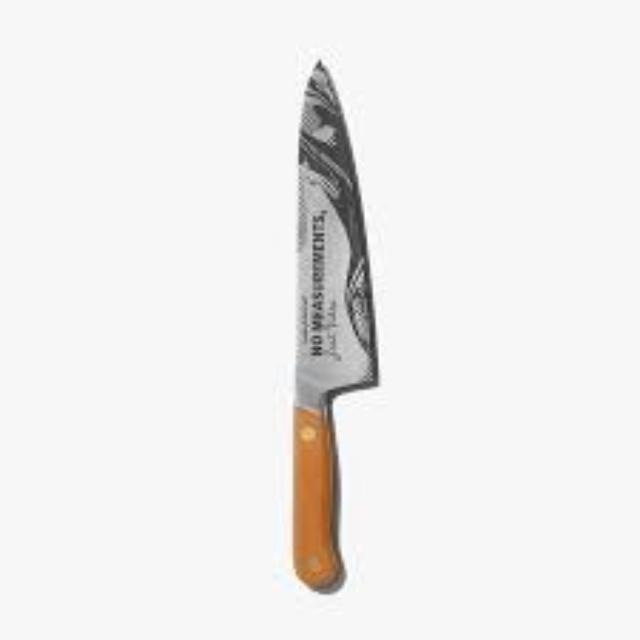knife: (287, 57, 378, 591)
